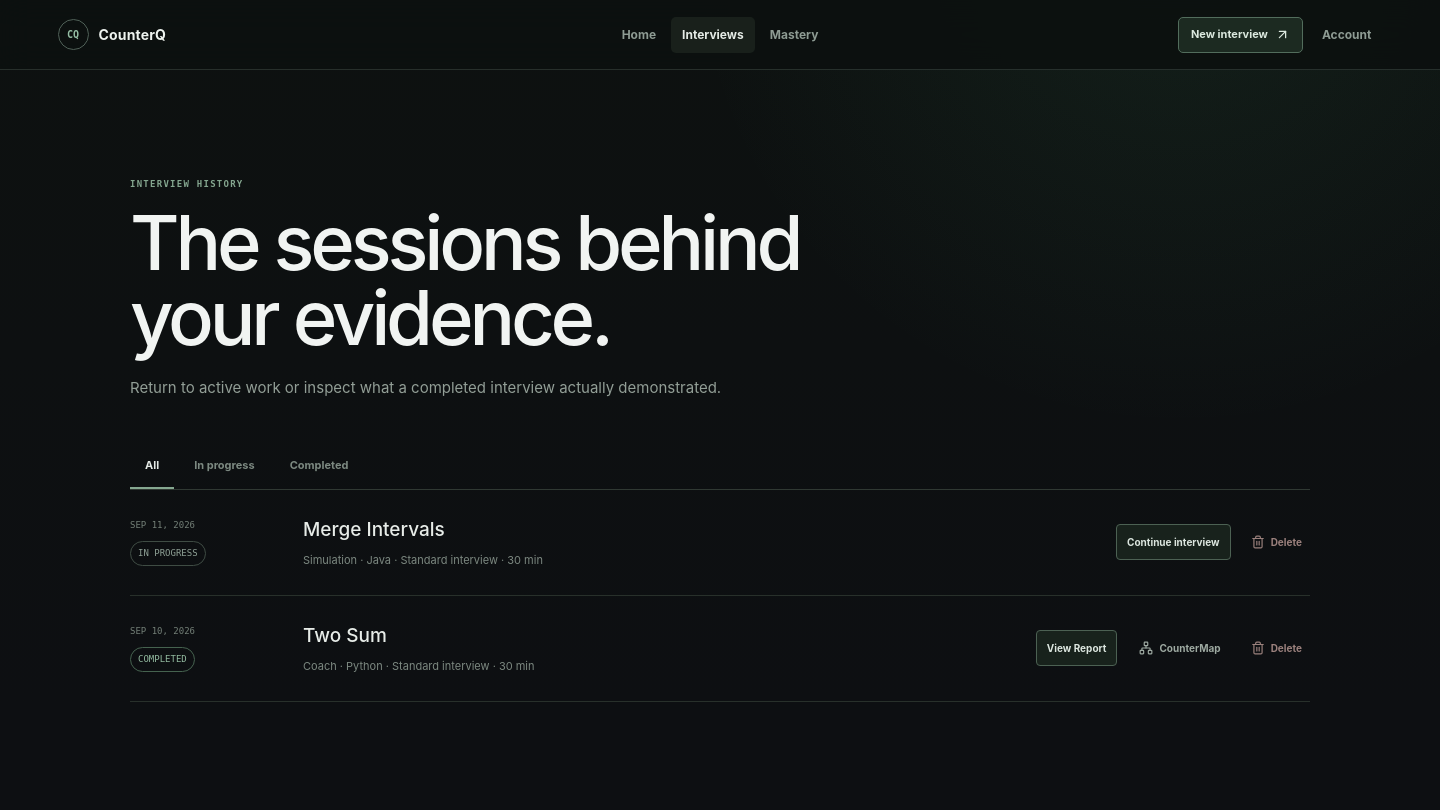
Stage 9D interview deletion › survives Strict Mode and sends an authenticated production DELETE
The image size is (1440, 810).
Expected: the heading "Merge Intervals" is shown, [303,518,445,541]
Click the button "Delete" next to "Continue interview": (1276, 542) [1243,524,1310,560]
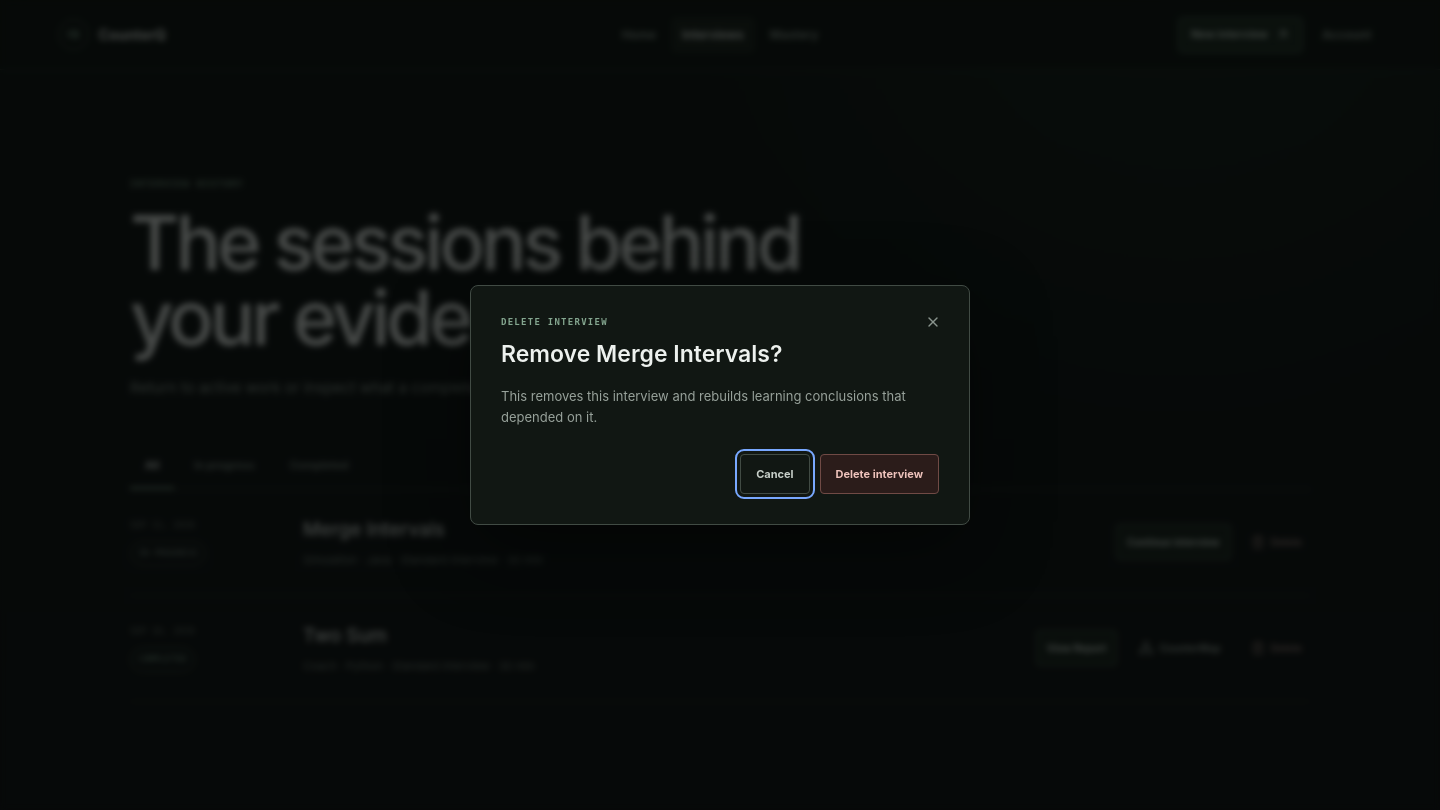
Click the button "Delete interview": (879, 474) [820,454,939,494]
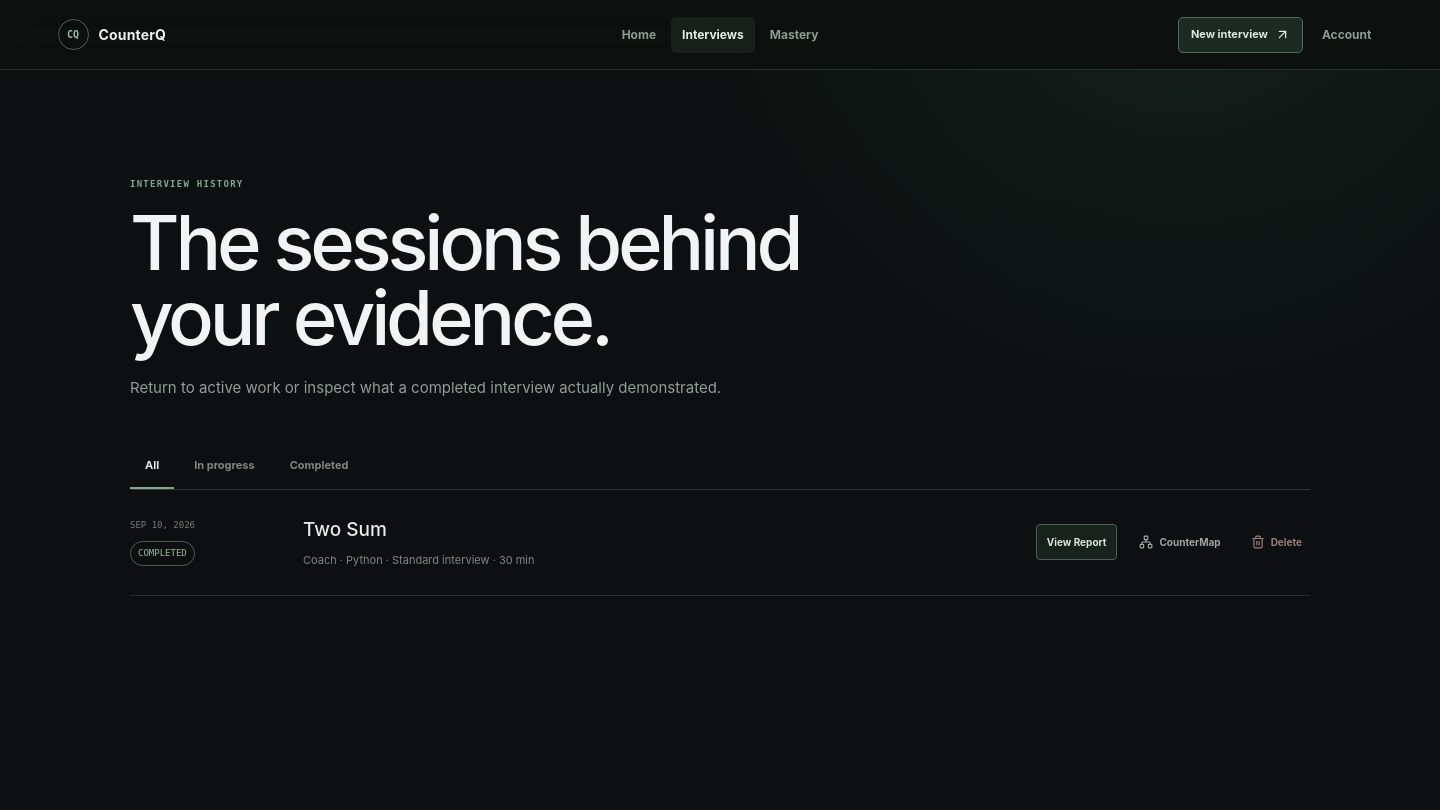
Expected: the heading "Merge Intervals" is gone
